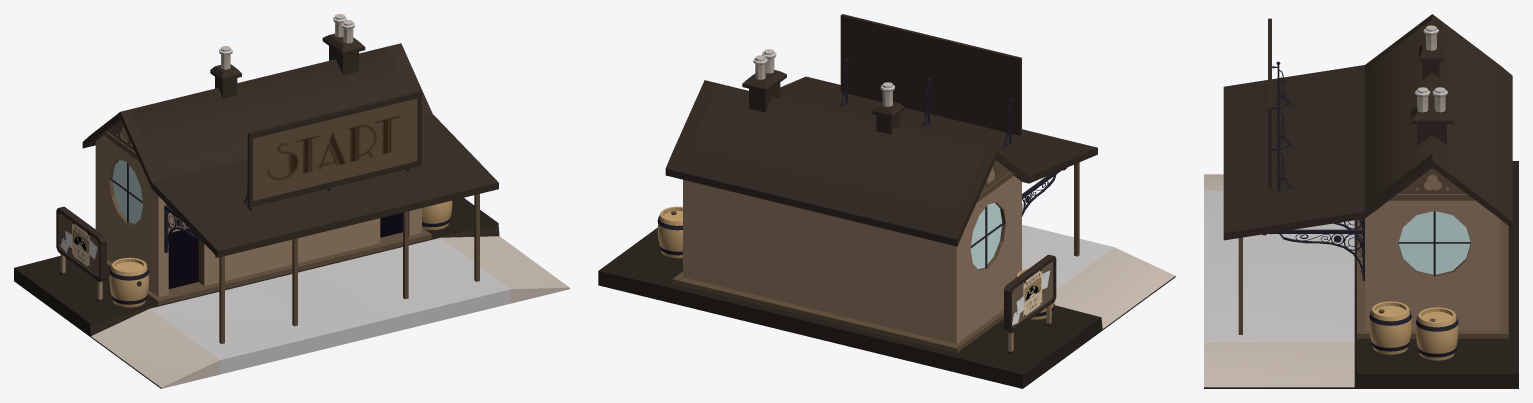
The model's file is FBX_Station.fbx.
3 renders of one model, left to right at view 1: azimuth 30°, elevation 25°; view 2: azimuth 150°, elevation 25°; view 3: azimuth 270°, elevation 25°, orthographic. The views are drawn at different scales.
Visible parts, largest first — view 1: pCylinder43; view 2: pCylinder43; view 3: pCylinder43.
Boxes of the visible parts, left/top/right/bottom form: pCylinder43: left=14, top=14, right=569, bottom=388; pCylinder43: left=598, top=14, right=1175, bottom=388; pCylinder43: left=1204, top=14, right=1518, bottom=388.
Bounding box in the file's own units: 29.65 × 15.36 × 18.49.
Materials: 2 (2 with a texture image).
